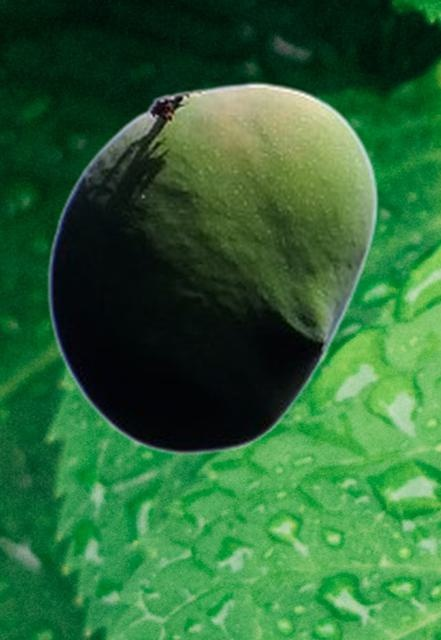green_mango: (46, 81, 379, 454)
